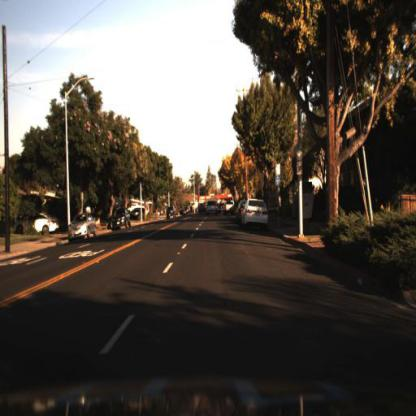car: (10, 211, 61, 237), (67, 210, 98, 242), (242, 197, 269, 231), (110, 204, 131, 232), (205, 200, 219, 221), (165, 206, 177, 224)
